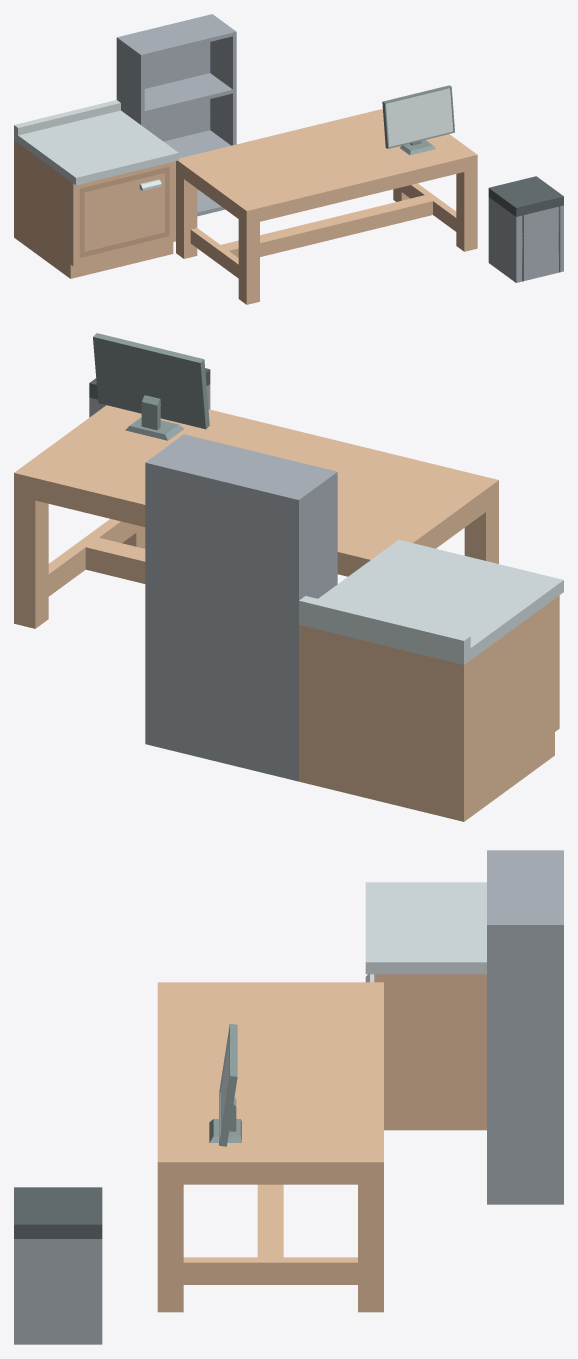
3 renders of one model, top to bottom at view 1: azimuth 30°, elevation 25°; view 2: azimuth 150°, elevation 25°; view 3: azimuth 270°, elevation 25°, orthographic. The views are drawn at different scales.
Parts seen in each view (by area): view 1: table_green__table(Clone), cabinet_blue__kitchenCabinet(Clone), cabinet_blue__door, bin_gray__bin_gray shell, shelf_orange__shelf_orange back, monitor_gray__computerScreen(Clone), shelf_orange__shelf_orange side_r, shelf_orange__shelf_orange board3, shelf_orange__shelf_orange board2, shelf_orange__shelf_orange side_l, bin_gray__bin_gray lid, shelf_orange__shelf_orange board1 (+1 smaller); view 2: cabinet_blue__kitchenCabinet(Clone), shelf_orange__shelf_orange back, table_green__table(Clone), monitor_gray__computerScreen(Clone), shelf_orange__shelf_orange side_l, shelf_orange__shelf_orange board3, shelf_orange__shelf_orange side_r; view 3: table_green__table(Clone), cabinet_blue__kitchenCabinet(Clone), shelf_orange__shelf_orange side_r, bin_gray__bin_gray shell, shelf_orange__shelf_orange board3, bin_gray__bin_gray lid, monitor_gray__computerScreen(Clone).
Part boxes in pixels (x1,y1,x2,y2): table_green__table(Clone): [176, 109, 477, 304]; cabinet_blue__kitchenCabinet(Clone): [14, 100, 178, 278]; cabinet_blue__door: [79, 166, 169, 257]; bin_gray__bin_gray shell: [488, 197, 563, 282]; shelf_orange__shelf_orange back: [120, 15, 210, 190]; monitor_gray__computerScreen(Clone): [382, 85, 454, 155]; shelf_orange__shelf_orange side_r: [209, 14, 236, 145]; shelf_orange__shelf_orange board3: [122, 16, 232, 57]; shelf_orange__shelf_orange board2: [144, 73, 232, 114]; shelf_orange__shelf_orange side_l: [116, 36, 144, 127]; bin_gray__bin_gray lid: [488, 176, 563, 216]; shelf_orange__shelf_orange board1: [163, 130, 230, 158]; cabinet_blue__kitchenCabinet(Clone): [299, 540, 563, 821]; shelf_orange__shelf_orange back: [151, 462, 294, 779]; table_green__table(Clone): [14, 405, 498, 628]; monitor_gray__computerScreen(Clone): [93, 333, 209, 440]; shelf_orange__shelf_orange side_l: [293, 470, 337, 781]; shelf_orange__shelf_orange board3: [153, 435, 331, 496]; shelf_orange__shelf_orange side_r: [145, 434, 189, 745]; table_green__table(Clone): [157, 982, 383, 1312]; cabinet_blue__kitchenCabinet(Clone): [365, 882, 486, 1130]; shelf_orange__shelf_orange side_r: [487, 922, 563, 1204]; bin_gray__bin_gray shell: [14, 1239, 102, 1344]; shelf_orange__shelf_orange board3: [487, 853, 559, 922]; bin_gray__bin_gray lid: [14, 1187, 102, 1238]; monitor_gray__computerScreen(Clone): [209, 1023, 241, 1146].
Bounding box in the file's own units: 3.16 × 1.4 × 2.49.
